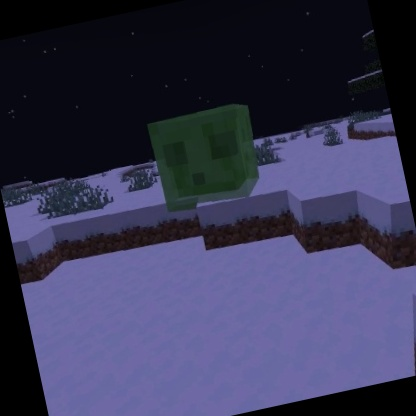slime: (144, 96, 271, 218)
